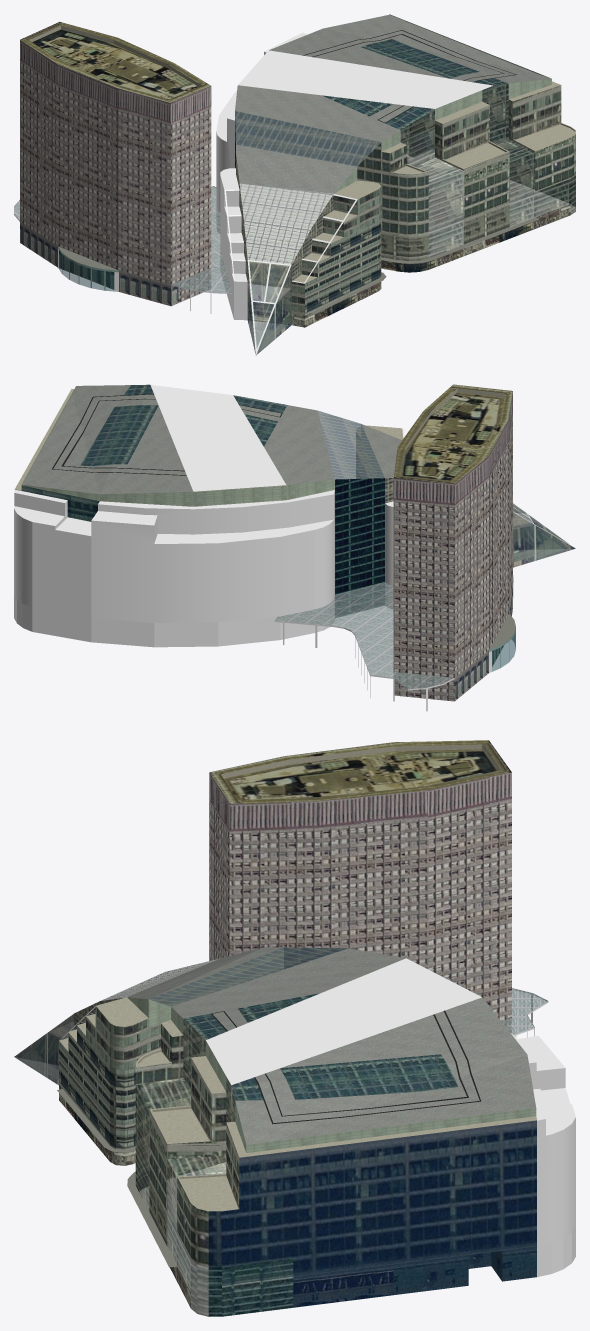
File: cardinal-walk2.fbx
The picture shows the model from 3 angles, top to bottom: view 1: azimuth 30°, elevation 25°; view 2: azimuth 150°, elevation 25°; view 3: azimuth 270°, elevation 25°; orthographic projection. The views are drawn at different scales.
Visible parts, largest first — view 1: Model; view 2: Model; view 3: Model.
Part boxes in pixels (x1,y1,x2,y2): Model: [14, 14, 575, 355]; Model: [14, 384, 575, 711]; Model: [14, 740, 575, 1316].
Size of the model in its own units: 6403 by 2738 by 5050.
